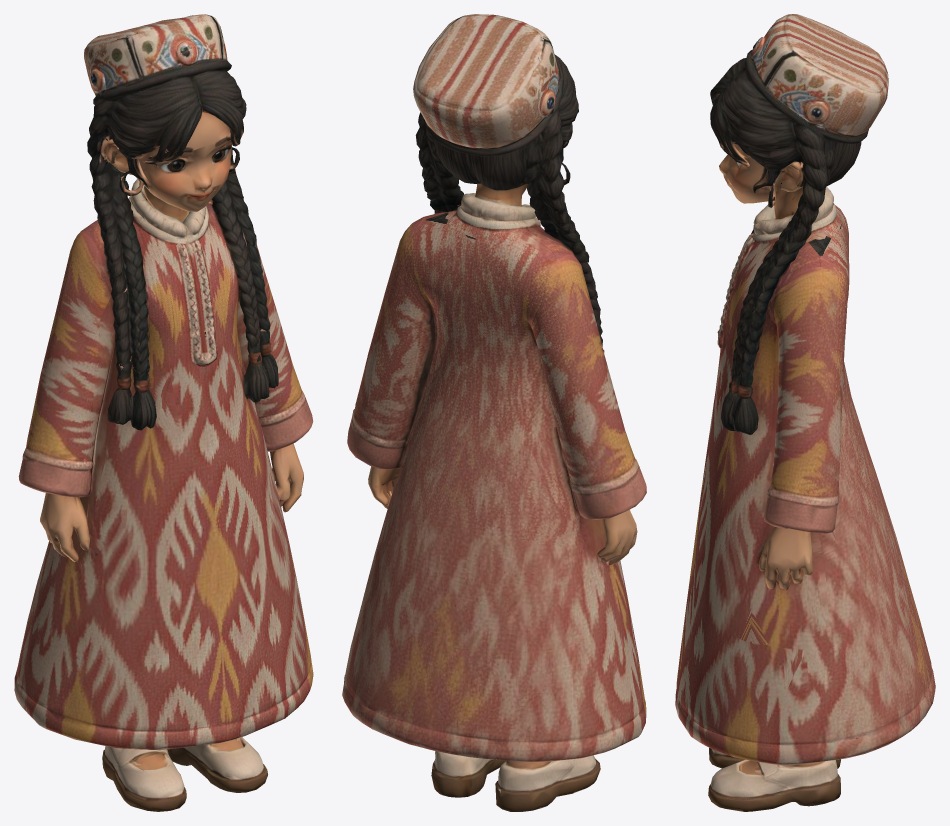
The model's file is girl.glb.
3 renders of one model, left to right at view 1: azimuth 30°, elevation 25°; view 2: azimuth 150°, elevation 25°; view 3: azimuth 270°, elevation 25°, orthographic.
Visible parts, largest first — view 1: Supplied Uyghur girl; view 2: Supplied Uyghur girl; view 3: Supplied Uyghur girl.
Part boxes in pixels (left/top/right/bottom): Supplied Uyghur girl: left=14, top=14, right=313, bottom=811; Supplied Uyghur girl: left=342, top=14, right=646, bottom=811; Supplied Uyghur girl: left=675, top=14, right=935, bottom=811.
Size of the model in its own units: 0.3959 by 0.9999 by 0.3138.
1 material, 1 textured.
